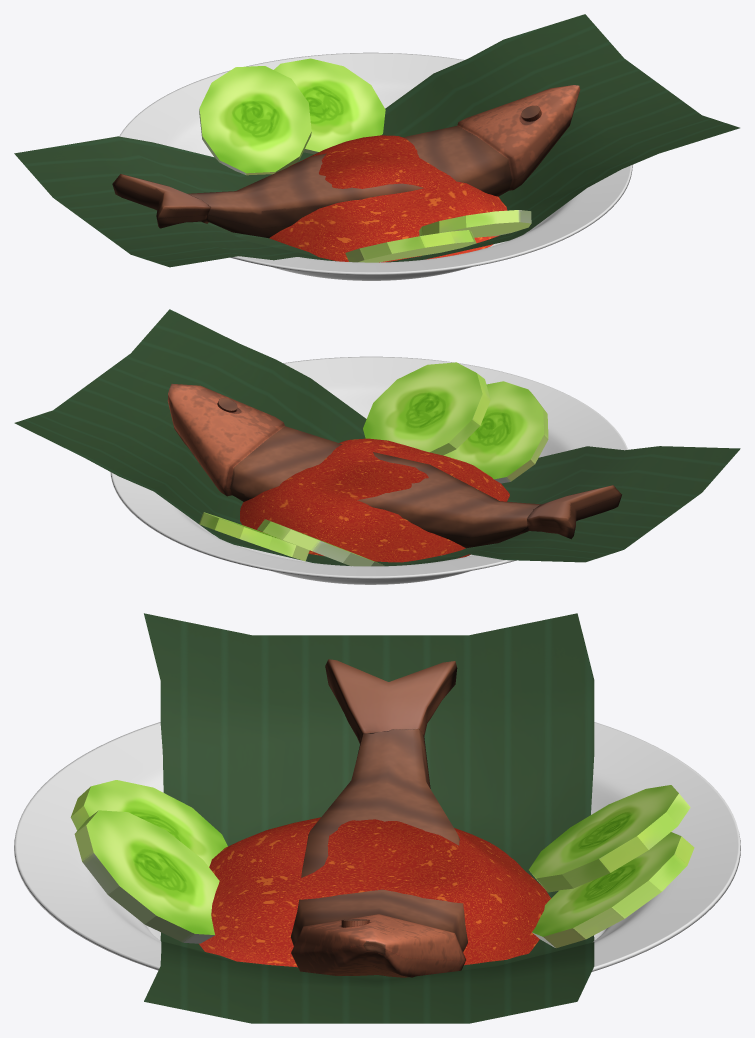
Rendered from ikanbakarmanokwari.fbx.
3 views of the same model, one above another, from view 1: azimuth 30°, elevation 25°; view 2: azimuth 150°, elevation 25°; view 3: azimuth 270°, elevation 25° (orthographic). The views are drawn at different scales.
Parts seen in each view (by area): view 1: Plane, ikan, plate, timun.001, sambal, timun; view 2: Plane, ikan, plate, sambal, timun, timun.001; view 3: Plane, plate, ikan, sambal, timun, timun.001.
Boxes of the visible parts, x1=… form: Plane: x1=14, y1=14, x2=739, y2=267; ikan: x1=112, y1=85, x2=580, y2=238; plate: x1=119, y1=52, x2=632, y2=280; timun.001: x1=199, y1=58, x2=385, y2=175; sambal: x1=269, y1=135, x2=507, y2=262; timun: x1=345, y1=210, x2=531, y2=262; Plane: x1=14, y1=309, x2=740, y2=566; ikan: x1=167, y1=383, x2=621, y2=548; plate: x1=110, y1=356, x2=627, y2=584; sambal: x1=240, y1=438, x2=509, y2=562; timun: x1=363, y1=362, x2=548, y2=483; timun.001: x1=199, y1=512, x2=384, y2=566; Plane: x1=144, y1=613, x2=594, y2=1023; plate: x1=14, y1=722, x2=740, y2=971; ikan: x1=291, y1=659, x2=467, y2=977; sambal: x1=199, y1=817, x2=550, y2=967; timun: x1=70, y1=780, x2=227, y2=943; timun.001: x1=529, y1=785, x2=694, y2=948.
Size of the model in its own units: 101 by 13.2 by 79.64.
Materials: 7 (6 with a texture image).
